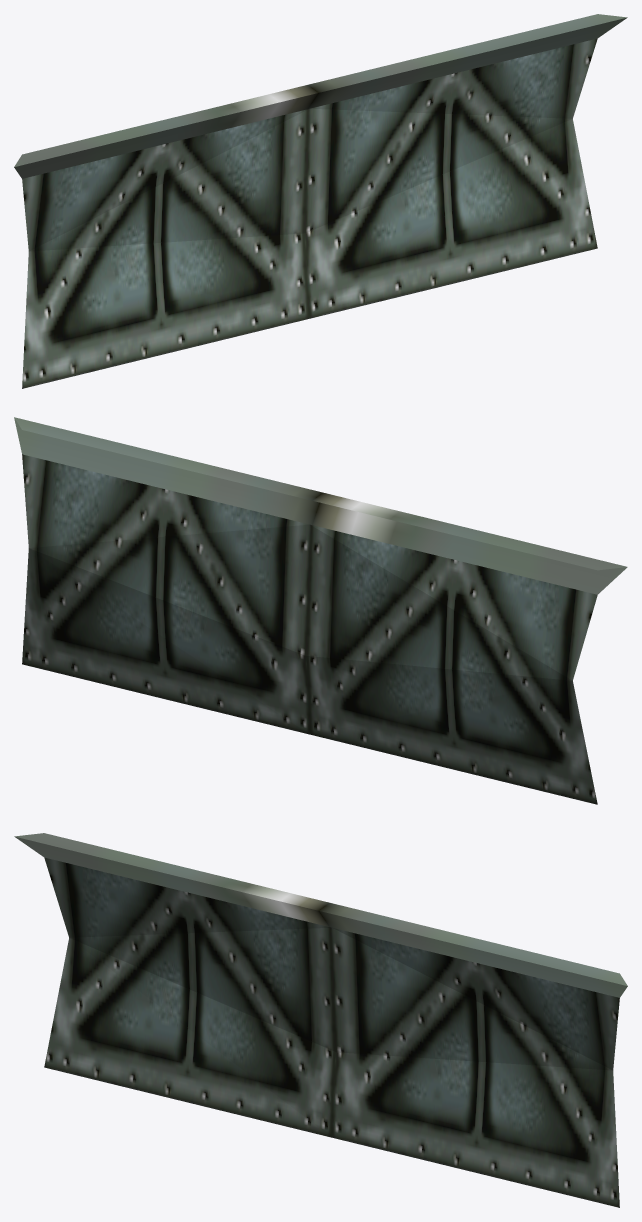
Rendered from W_A1_xxxx [Metall]_740.glb.
The picture shows the model from 3 angles, top to bottom: view 1: azimuth 30°, elevation 25°; view 2: azimuth 150°, elevation 25°; view 3: azimuth 330°, elevation 25°; orthographic projection.
Visible parts, largest first — view 1: polySurfaceShape787, polySurfaceShape1065; view 2: polySurfaceShape787, polySurfaceShape1065; view 3: polySurfaceShape787, polySurfaceShape1065.
Boxes of the visible parts, box(x1,y1,x2,y2) form: polySurfaceShape787: box(22, 38, 597, 388); polySurfaceShape1065: box(14, 14, 627, 178); polySurfaceShape787: box(22, 454, 597, 804); polySurfaceShape1065: box(14, 417, 627, 594); polySurfaceShape787: box(44, 857, 619, 1207); polySurfaceShape1065: box(14, 833, 627, 997).
Size of the model in its own units: 1.07 by 0.3891 by 0.0607.
Materials: 2 (2 with a texture image).
